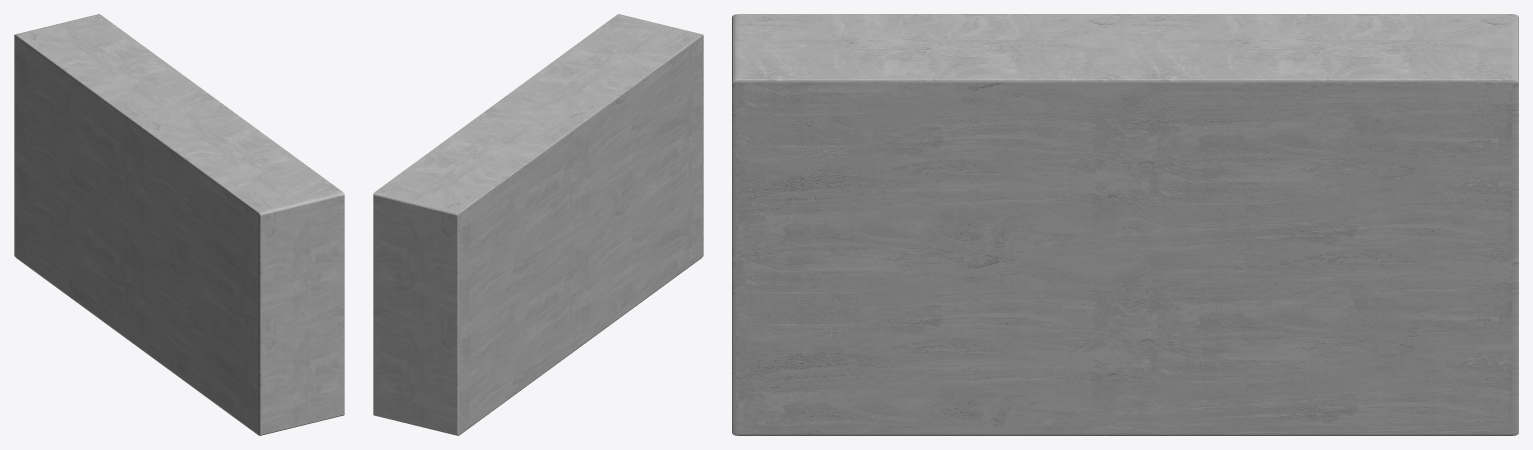
The model's file is RoomA-Pillar.glb.
3 views of the same model, side by side, from view 1: azimuth 30°, elevation 25°; view 2: azimuth 150°, elevation 25°; view 3: azimuth 270°, elevation 25° (orthographic). The views are drawn at different scales.
Parts seen in each view (by area): view 1: ROOM_A_Pillar; view 2: ROOM_A_Pillar; view 3: ROOM_A_Pillar.
Part boxes in pixels (left/top/right/bottom): ROOM_A_Pillar: left=14, top=14, right=344, bottom=435; ROOM_A_Pillar: left=373, top=14, right=703, bottom=435; ROOM_A_Pillar: left=732, top=14, right=1518, bottom=435.
Size of the model in its own units: 1.2 by 3 by 6.
Materials: 1 (1 with a texture image).
